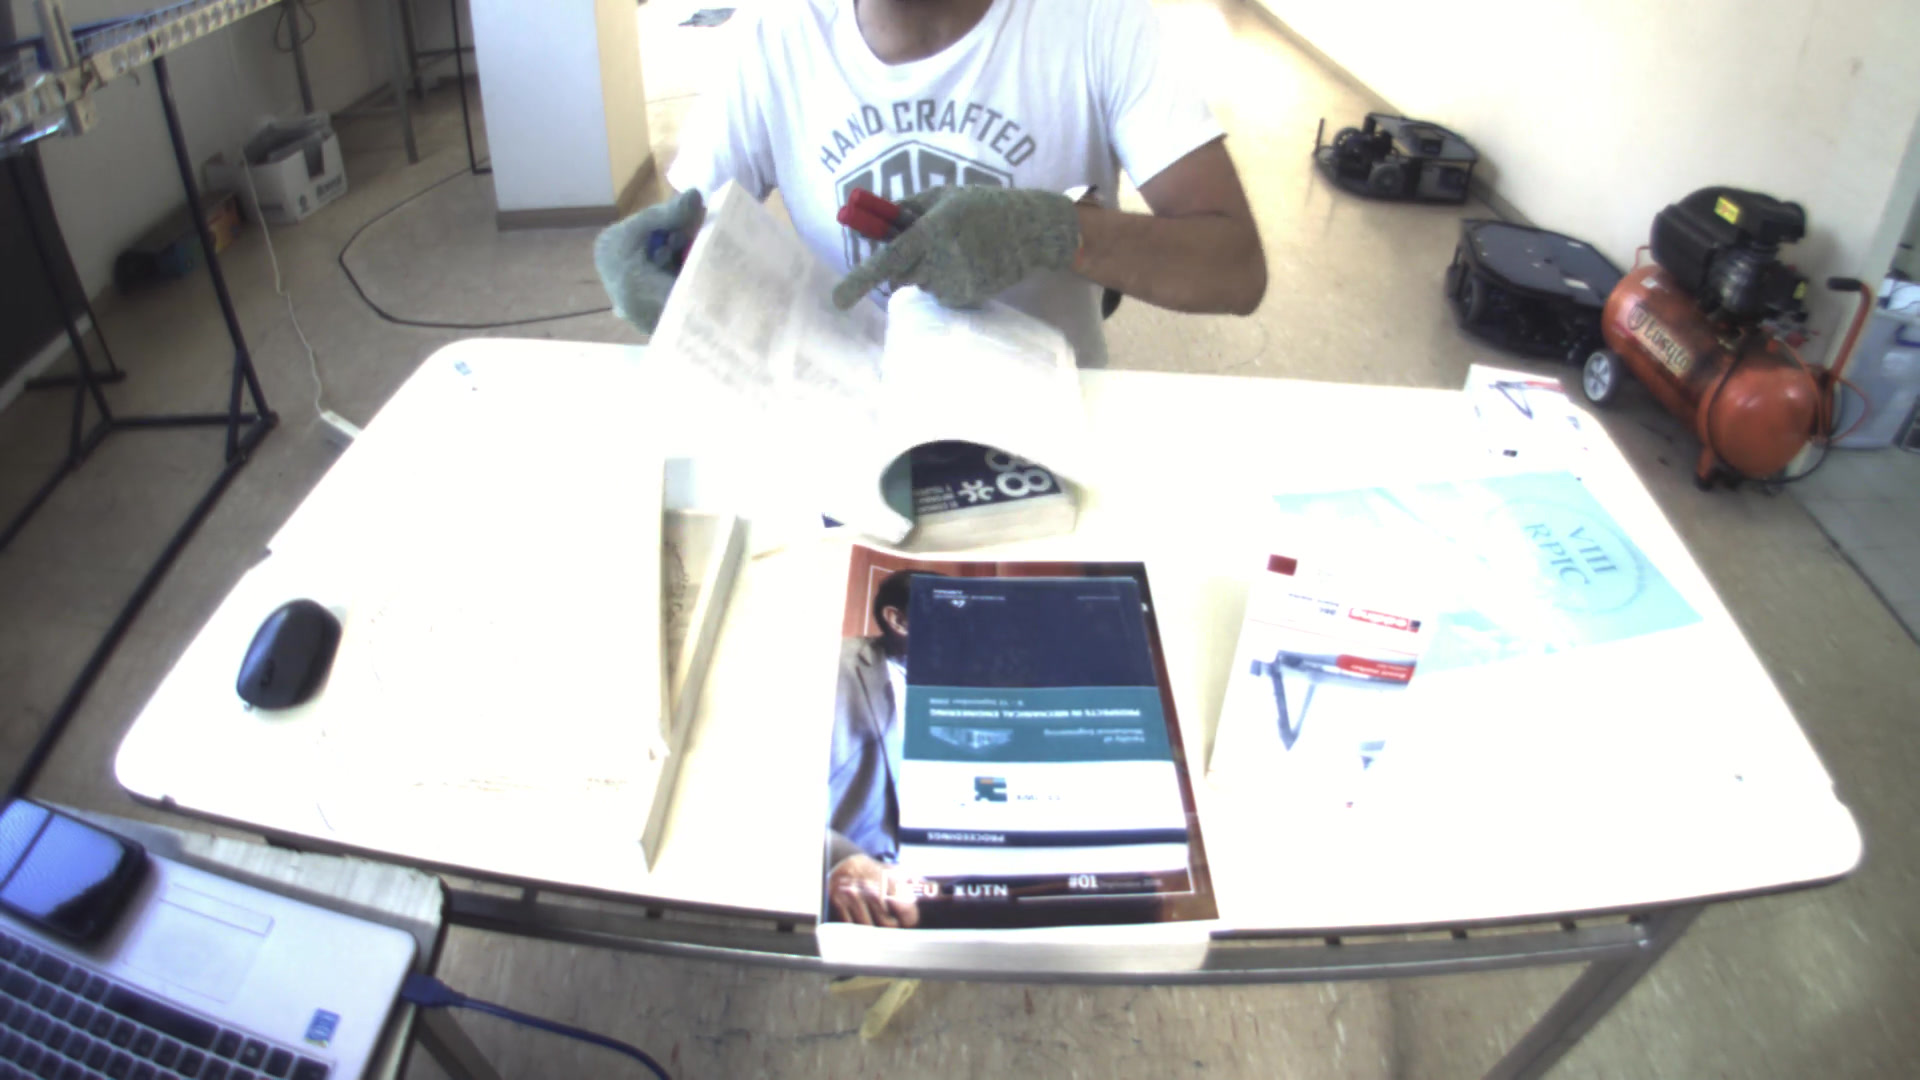hand: (825, 171, 1087, 310), (580, 189, 709, 320)
